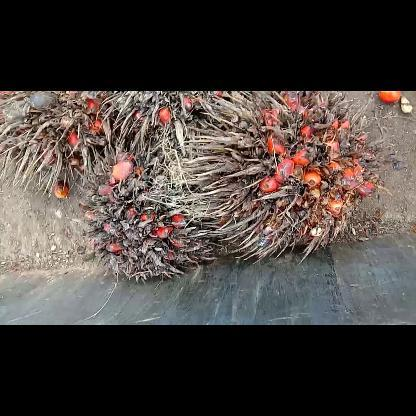Terlalu masak: (178, 90, 382, 270), (76, 135, 223, 287), (0, 91, 133, 198)
